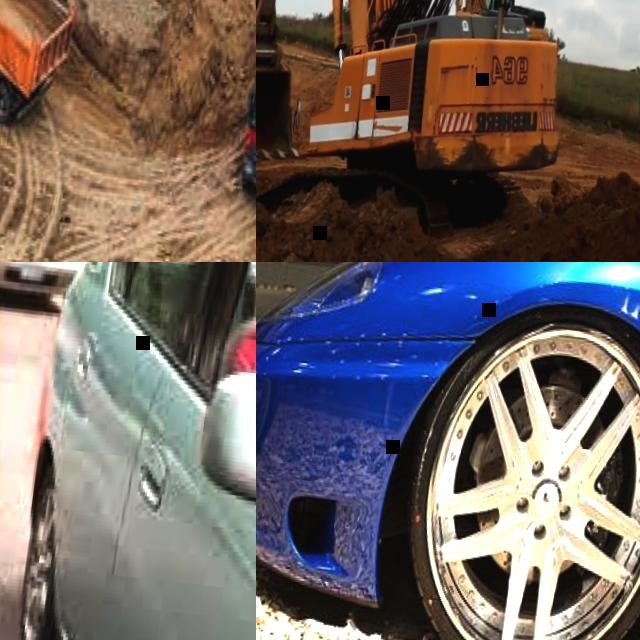Person: (500, 0, 512, 6)
Safety Cone: (0, 305, 25, 520), (26, 315, 61, 449)
machinery: (256, 0, 601, 251), (0, 0, 99, 137), (391, 0, 569, 43), (229, 0, 256, 211)
vehicle: (256, 262, 640, 640), (5, 262, 256, 640), (0, 262, 95, 315)
